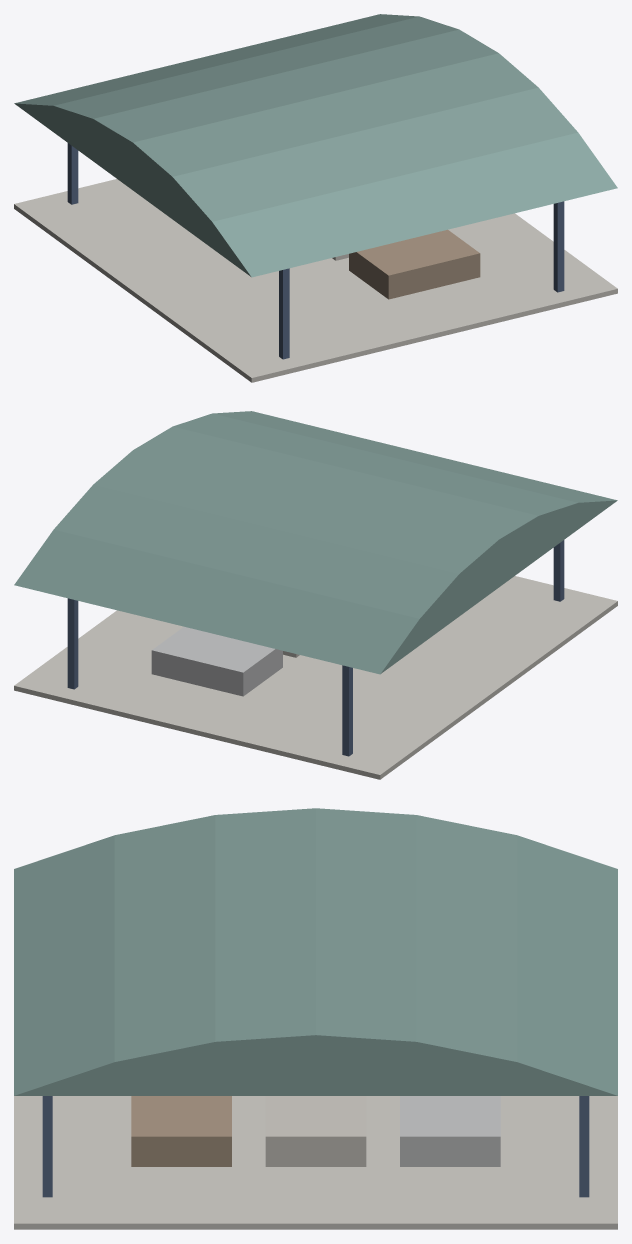
The model's file is 12_food_market-06.glb.
The picture shows the model from 3 angles, top to bottom: view 1: azimuth 30°, elevation 25°; view 2: azimuth 150°, elevation 25°; view 3: azimuth 270°, elevation 25°; orthographic projection. The views are drawn at different scales.
Bounding box in the file's own units: 16 × 6.4 × 18.
